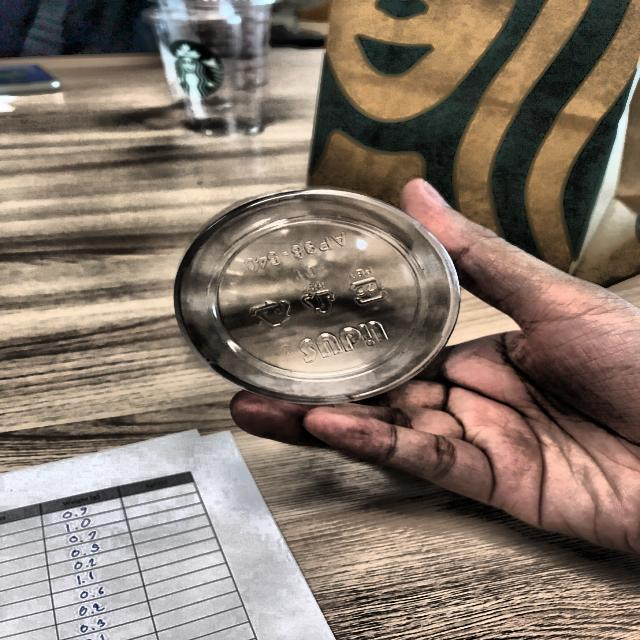plastic cup: (168, 186, 475, 417)
